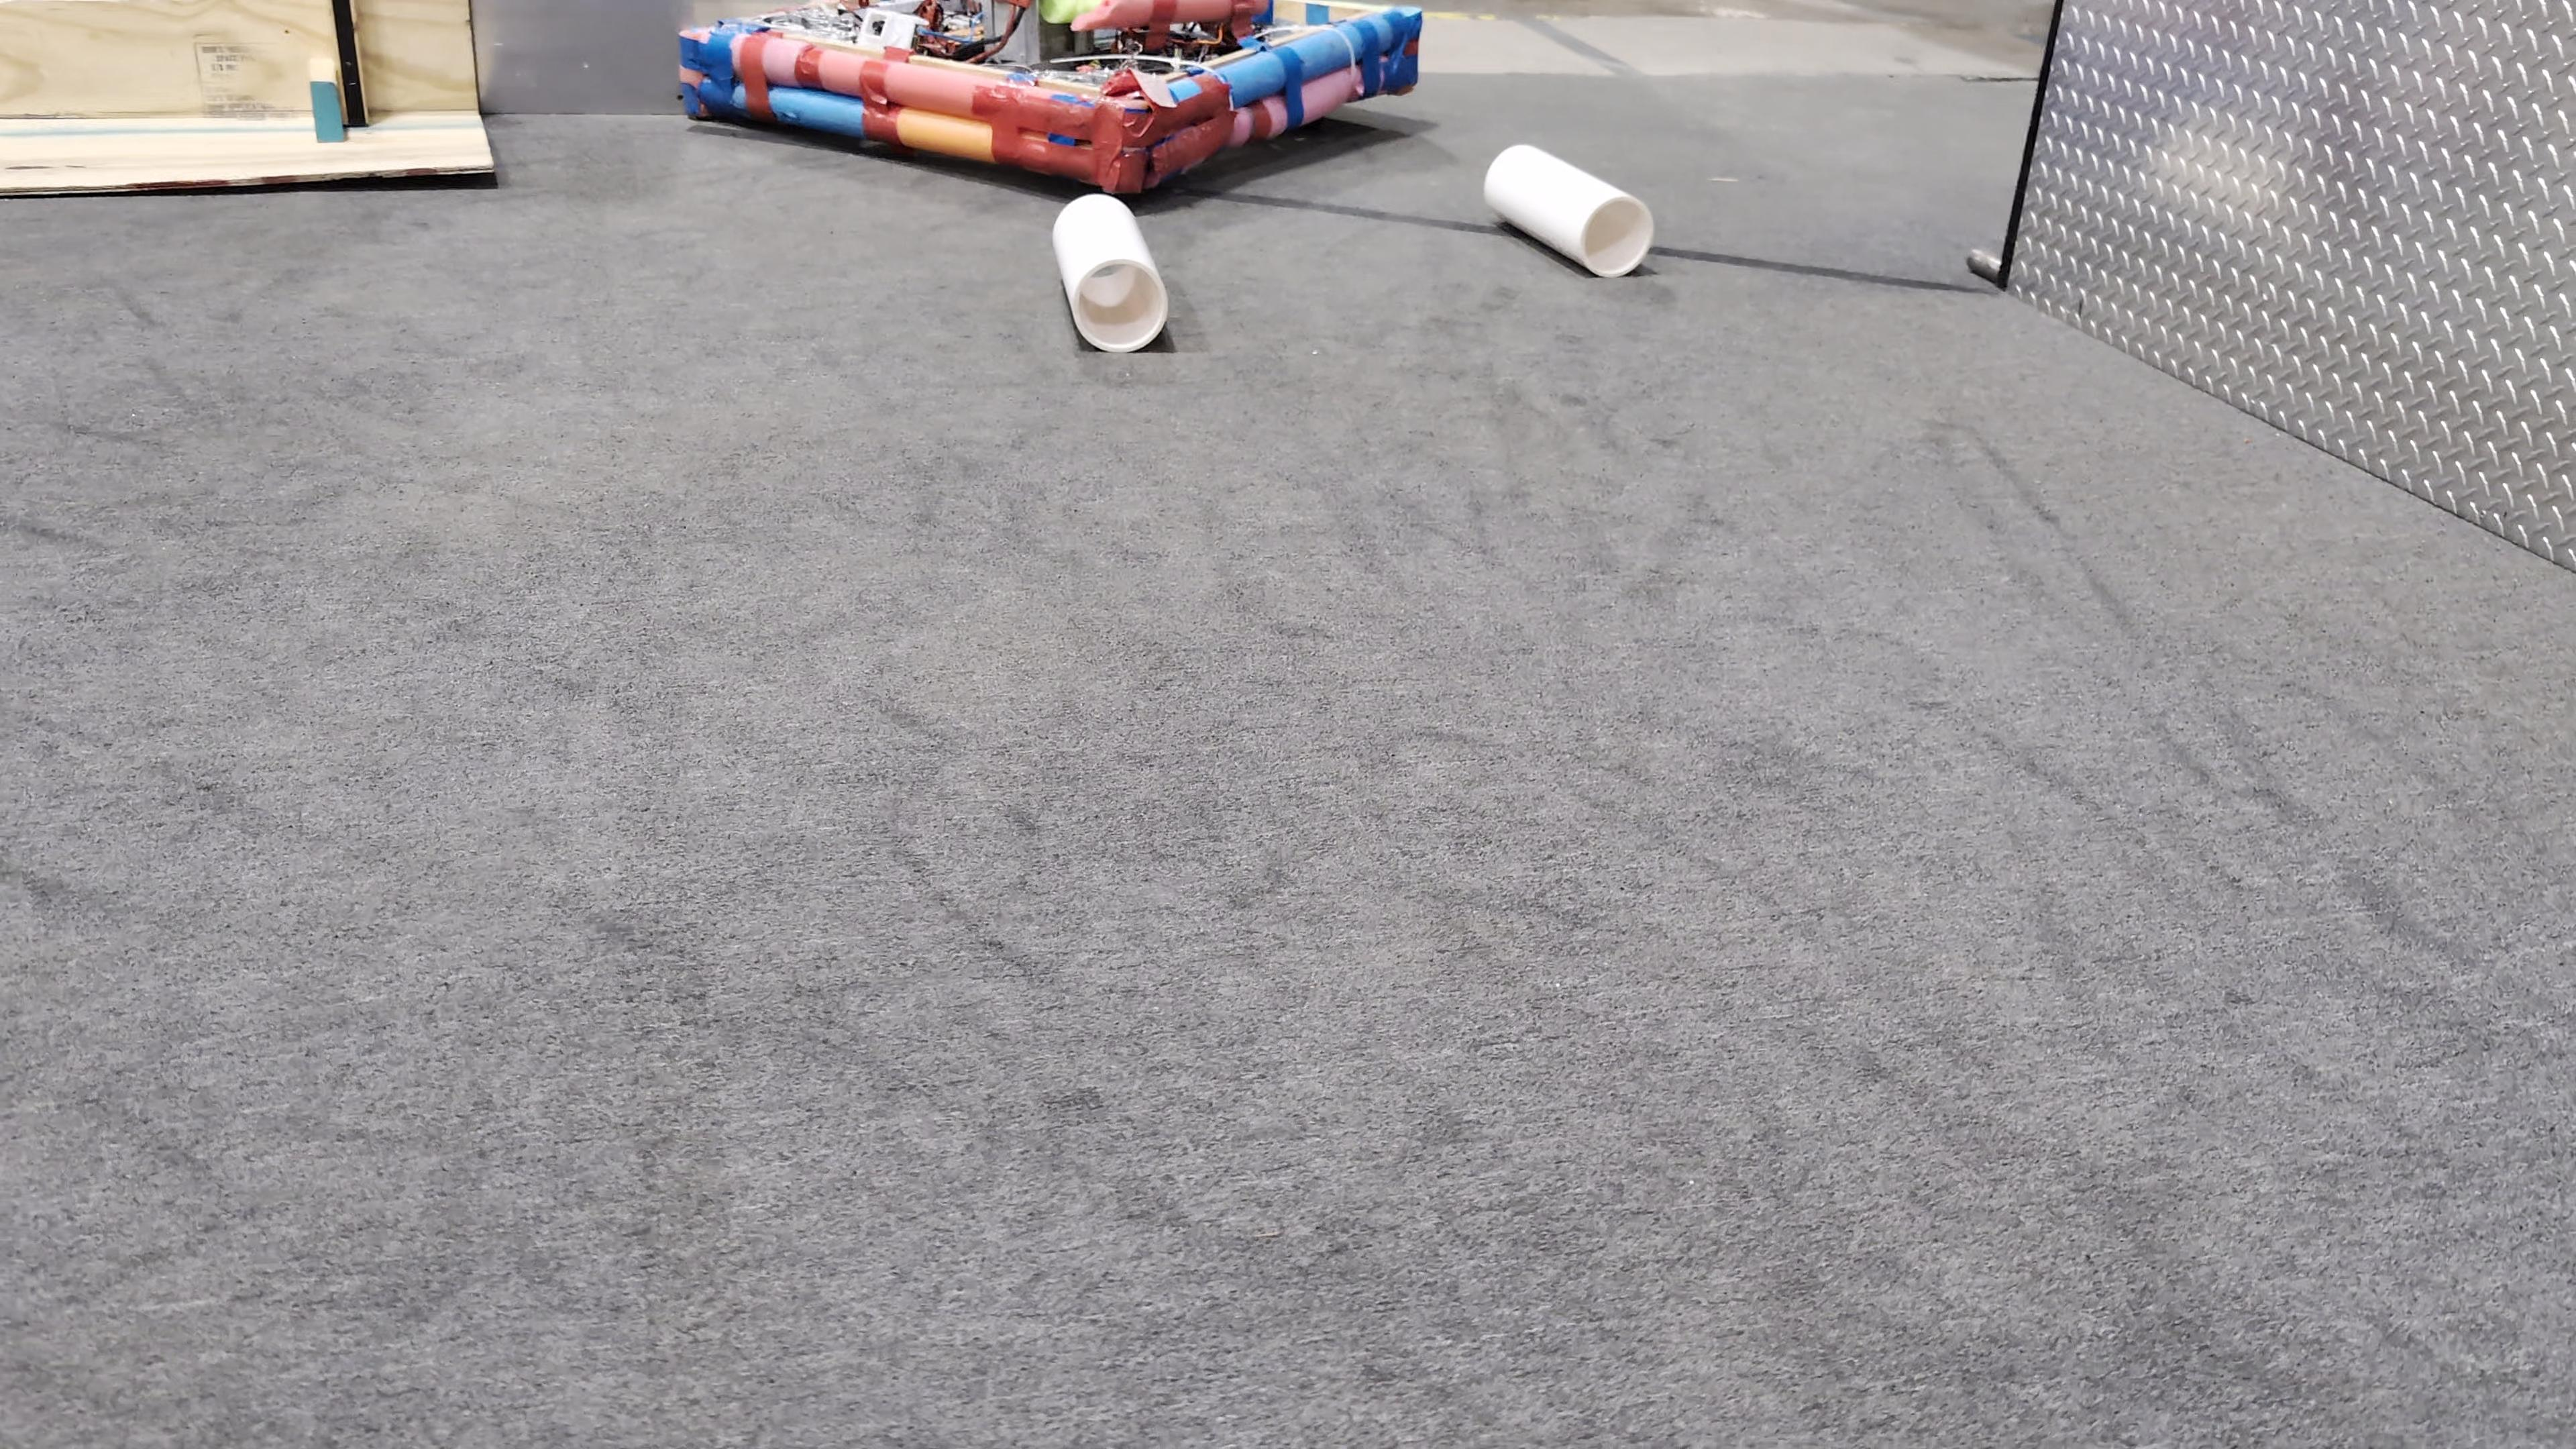coral: (1481, 140, 1656, 276), (1055, 190, 1171, 352)
